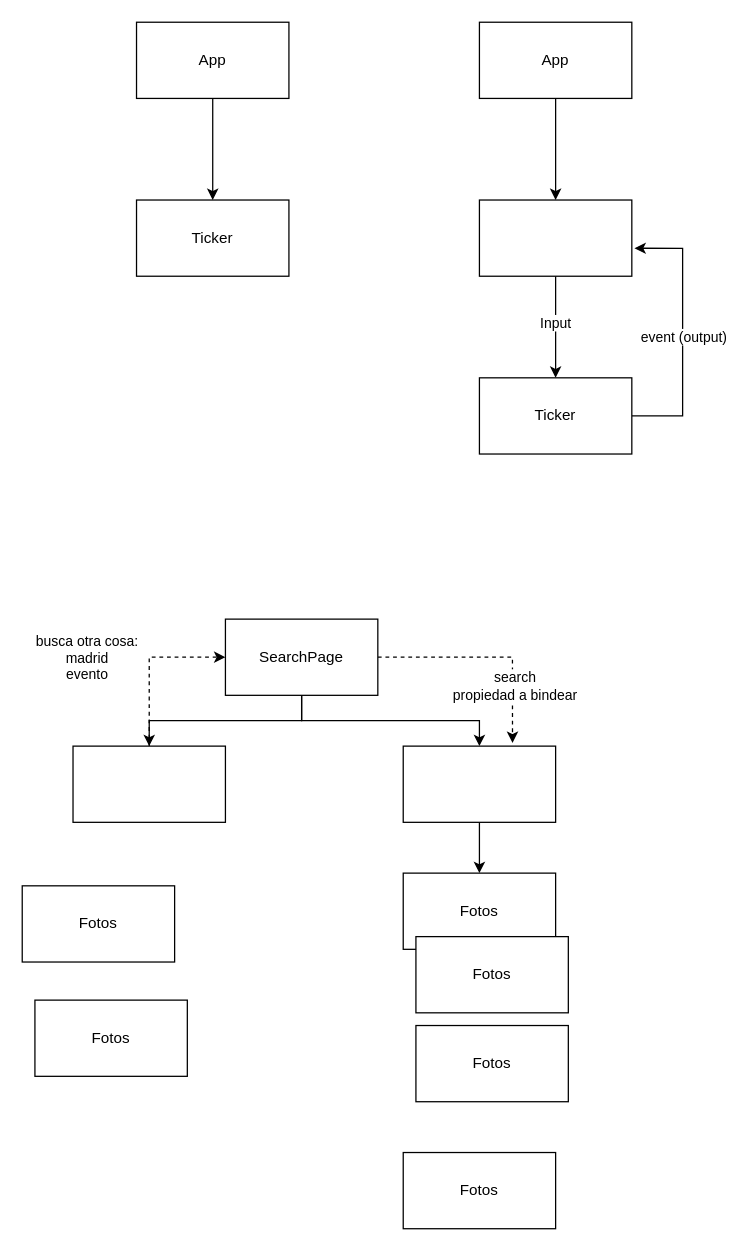
The diagram is 748 pixels wide and 1251 high, and some of its shapes have lost their labels. The shapes that lost their labels are listed below. From the top down, each one's centre as x and y in pixels, then its label:
At (555,237): "TickerList".
At (148,783): "Search".
At (479,783): "FotosList".
